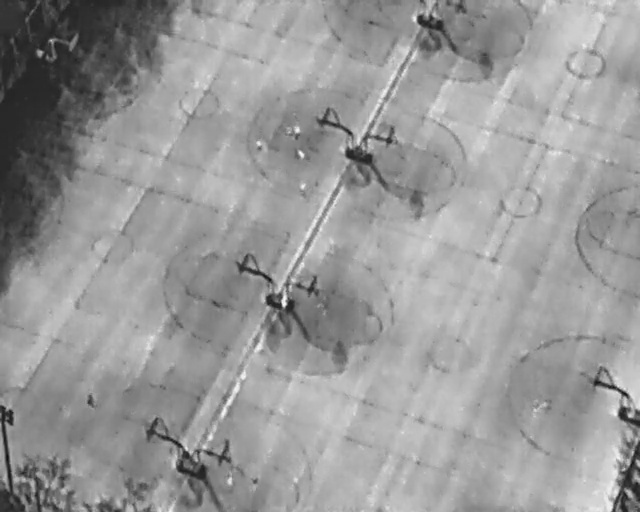Person: (297, 181, 307, 201), (298, 146, 306, 166), (255, 136, 263, 153), (294, 122, 301, 139)
